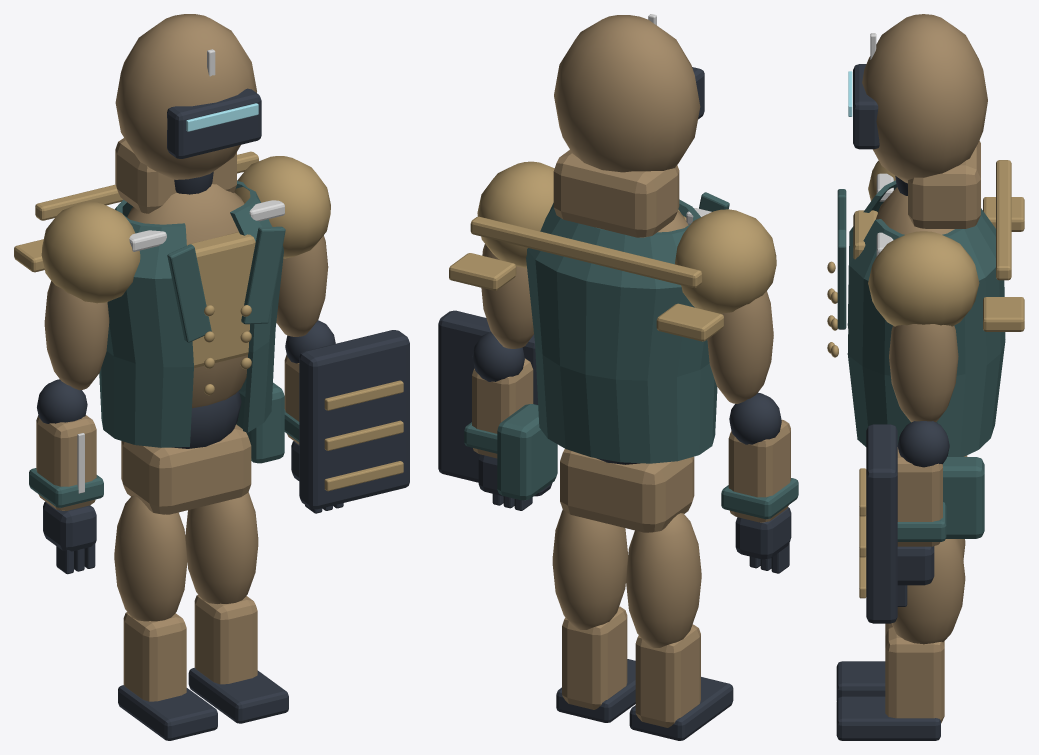
File: financier.glb
The picture shows the model from 3 angles, left to right: view 1: azimuth 30°, elevation 25°; view 2: azimuth 150°, elevation 25°; view 3: azimuth 270°, elevation 25°; orthographic projection. The views are drawn at different scales.
Visible parts, largest first — view 1: Treasurer double breast, Treasurer tall ledger, Helmet, Pelvis, Shoulder R, Thigh R, Thigh L, Sternum shield, Shoulder L, Articulated thorax, Upper arm R, Shin R (+22 smaller); view 2: Treasurer double breast, Helmet, Pelvis, Thigh R, Shoulder R, Formal high collar, Thigh L, Treasurer tall ledger, Shin R, Shin L, Upper arm R, Shoulder L (+15 smaller); view 3: Treasurer double breast, Helmet, Shoulder L, Treasurer tall ledger, Upper arm L, Shin L, Thigh L, Formal high collar, Foot L, Treasurer ledger case, Bracer L, Elbow L (+13 smaller).
Part boxes in pixels (<box>): Treasurer double breast: <box>99,181,283,447</box>; Treasurer tall ledger: <box>299,330,409,509</box>; Helmet: <box>115,14,256,179</box>; Pelvis: <box>121,424,251,514</box>; Shoulder R: <box>41,202,140,303</box>; Thigh R: <box>114,495,187,621</box>; Thigh L: <box>185,492,258,603</box>; Sternum shield: <box>187,232,255,367</box>; Shoulder L: <box>234,156,330,258</box>; Articulated thorax: <box>127,184,247,408</box>; Upper arm R: <box>44,281,109,390</box>; Shin R: <box>123,612,186,701</box>; Treasurer double breast: <box>526,199,717,463</box>; Helmet: <box>554,15,700,172</box>; Pelvis: <box>560,449,694,532</box>; Thigh R: <box>626,513,701,647</box>; Shoulder R: <box>675,209,776,313</box>; Formal high collar: <box>553,150,679,237</box>; Thigh L: <box>552,510,627,629</box>; Treasurer tall ledger: <box>438,310,552,496</box>; Shin R: <box>635,624,700,727</box>; Shin L: <box>562,606,627,709</box>; Upper arm R: <box>707,291,773,403</box>; Shoulder L: <box>477,161,554,267</box>; Treasurer double breast: <box>847,180,1005,456</box>; Helmet: <box>862,14,987,183</box>; Shoulder L: <box>868,231,979,326</box>; Treasurer tall ledger: <box>866,424,897,623</box>; Upper arm L: <box>889,324,958,422</box>; Shin L: <box>885,627,944,723</box>; Thigh L: <box>892,539,965,644</box>; Formal high collar: <box>908,140,980,228</box>; Foot L: <box>836,696,940,740</box>; Treasurer ledger case: <box>943,457,984,538</box>; Bracer L: <box>897,447,942,546</box>; Elbow L: <box>897,421,949,467</box>.
Size of the model in its own units: 1.17 by 2.2 by 0.567.
